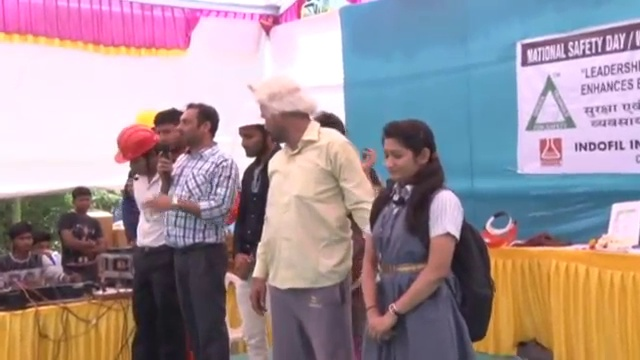helmet: (115, 125, 160, 163), (237, 105, 265, 127)
helmet_off: (373, 119, 443, 193), (259, 84, 314, 146), (172, 106, 221, 157), (149, 112, 178, 151), (6, 225, 36, 259), (33, 229, 55, 260), (71, 188, 93, 216)
helmet_on: (114, 124, 163, 179), (236, 105, 278, 163)
person: (252, 83, 378, 360), (367, 117, 494, 360), (153, 107, 240, 360), (114, 124, 179, 357), (230, 97, 279, 360), (1, 223, 79, 292), (57, 186, 102, 284)
